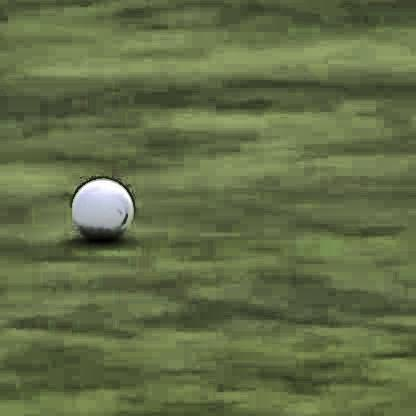golfball: (68, 171, 130, 236)
